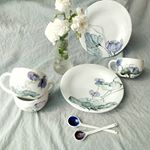cups: (1, 66, 50, 101), (107, 57, 146, 81)
